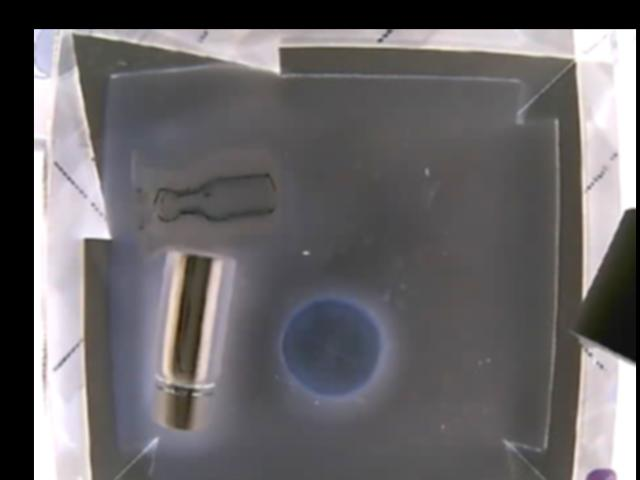Bottle: (149, 250, 238, 430), (136, 153, 279, 239)
Mooli: (281, 298, 382, 398)
